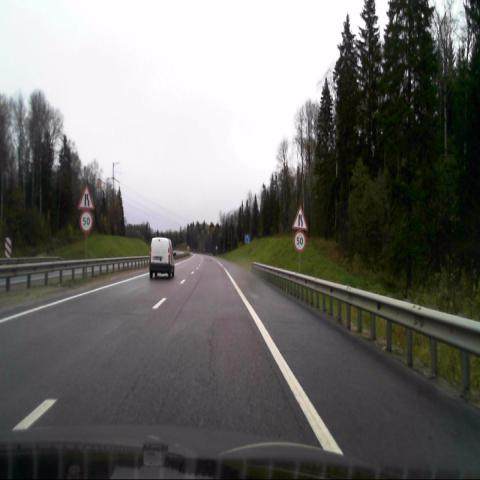1_20_2: (78, 185, 94, 210)
